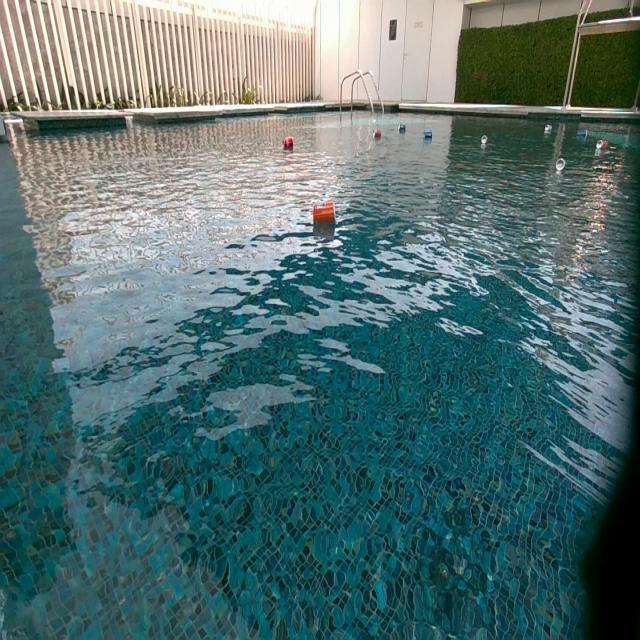Cans: (312, 202, 335, 224), (597, 139, 609, 151), (556, 160, 566, 172), (283, 138, 293, 150), (576, 130, 586, 141), (424, 131, 433, 141), (374, 130, 382, 141), (542, 125, 550, 135), (398, 122, 406, 131), (481, 136, 488, 146)
